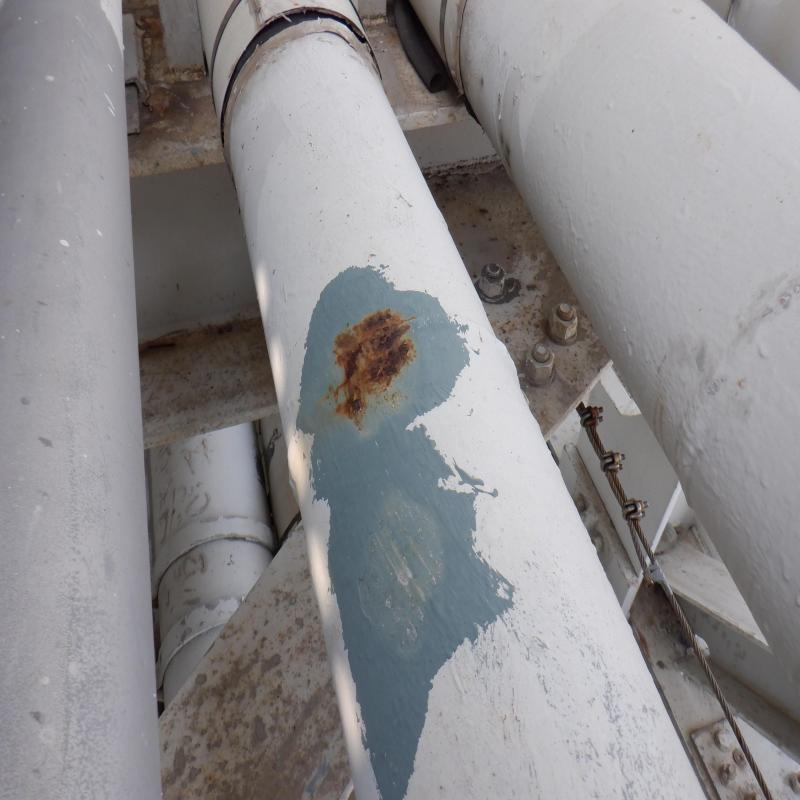corrosion: (330, 320, 413, 420), (351, 332, 388, 377)
